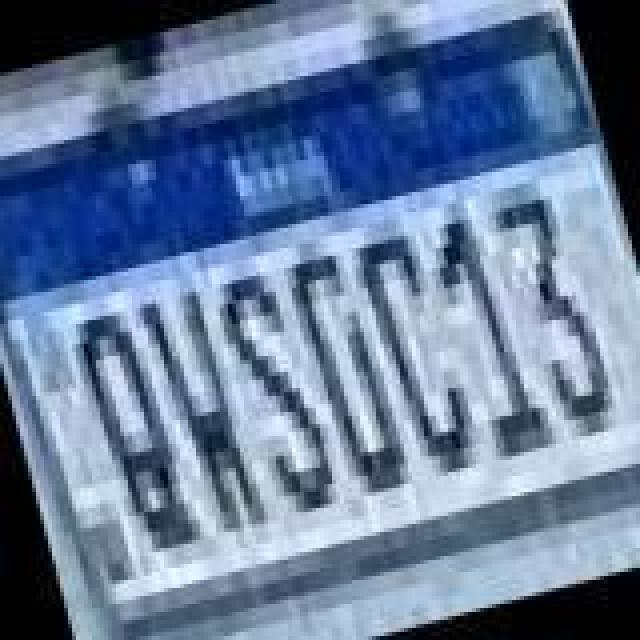1: (418, 194, 558, 462)
3: (480, 176, 624, 448)
C: (346, 212, 486, 484)
D: (280, 232, 416, 504)
Q: (64, 294, 208, 570)
S: (208, 258, 344, 526)
W: (130, 274, 270, 550)
